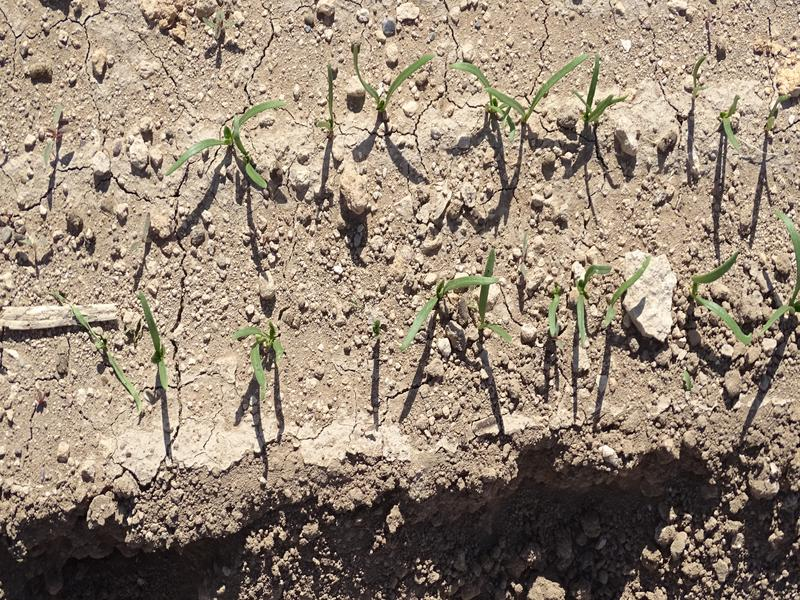Espinaca: (460, 45, 617, 138), (682, 258, 793, 343), (172, 97, 271, 191), (541, 254, 640, 339), (419, 257, 509, 344), (352, 45, 429, 112), (132, 293, 179, 392), (239, 319, 288, 381), (718, 97, 745, 147)
